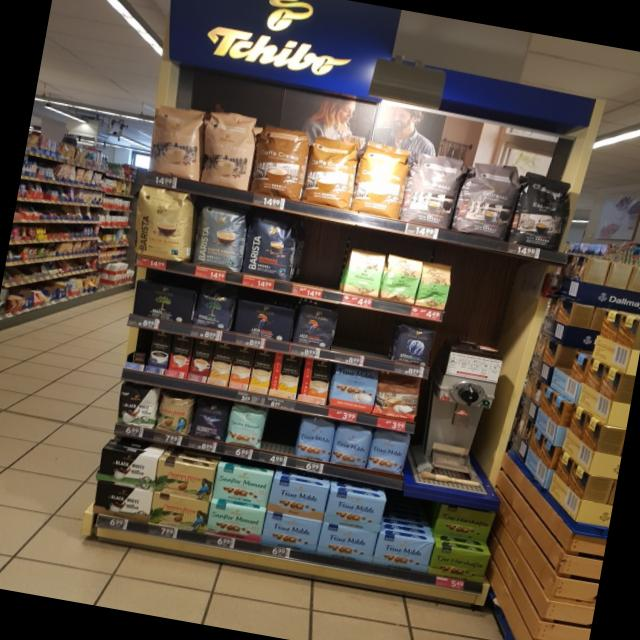AB Bohne: (390, 318, 440, 366)
Athiopien Bohne: (413, 259, 455, 311)
Athiopien Gemahlen: (338, 243, 390, 300), (377, 251, 425, 305)
BM Bohne: (192, 280, 238, 330)
BM Gemahlen: (130, 278, 196, 325)
BW Bohne: (114, 381, 161, 429)
BW Gemahlen: (96, 446, 158, 492), (93, 481, 153, 515)
Barista CB: (133, 183, 198, 264)
Barista CC: (187, 201, 249, 273)
Barista Espresso: (239, 211, 303, 281)
C Fino Bohne: (188, 395, 232, 442)
CC Mild: (197, 110, 263, 193), (145, 101, 212, 182)
CC Vollmundig: (371, 370, 424, 423)
CC Vollmundig 36 Pads: (349, 140, 416, 221), (247, 123, 312, 203), (300, 134, 363, 212)
Colombia BB Bohne: (152, 391, 195, 436)
Colombia BB Gemahlen: (152, 457, 216, 501), (147, 491, 210, 534)
Empty Shelf: (289, 221, 352, 290), (333, 310, 397, 359), (380, 498, 439, 540), (260, 409, 302, 456), (125, 327, 153, 364)
Espresso Aromatisch: (452, 157, 527, 242), (396, 149, 471, 231)
Espresso Kraftig: (508, 170, 577, 253)
FM 36 Pads: (327, 362, 380, 415)
FM Bohne: (365, 428, 414, 475), (329, 422, 375, 469), (293, 417, 337, 463)
FM Gemahlen: (266, 477, 330, 521), (322, 489, 386, 533), (260, 510, 323, 553), (316, 521, 378, 563), (371, 532, 434, 573)
Herzhatfe Mundig: (427, 544, 491, 583), (433, 505, 497, 543)
LG Bohne: (290, 300, 342, 350)
LG Gemahlen: (230, 299, 298, 343)
SM Bohne: (223, 403, 269, 449)
SM Gemahlen: (204, 501, 266, 543), (211, 465, 273, 506)
Simo CCMild: (268, 353, 303, 401)
Simo CCMild bigpack: (246, 348, 276, 395)
Simo CCVollmundig: (298, 358, 334, 406)
Simo CCVollmundig bigpack: (226, 345, 256, 391)
Simo Decaff: (206, 341, 235, 387)
Simo Es Brazil: (164, 334, 194, 380)
Simo Es Caramel: (143, 330, 173, 376), (187, 337, 216, 383)
